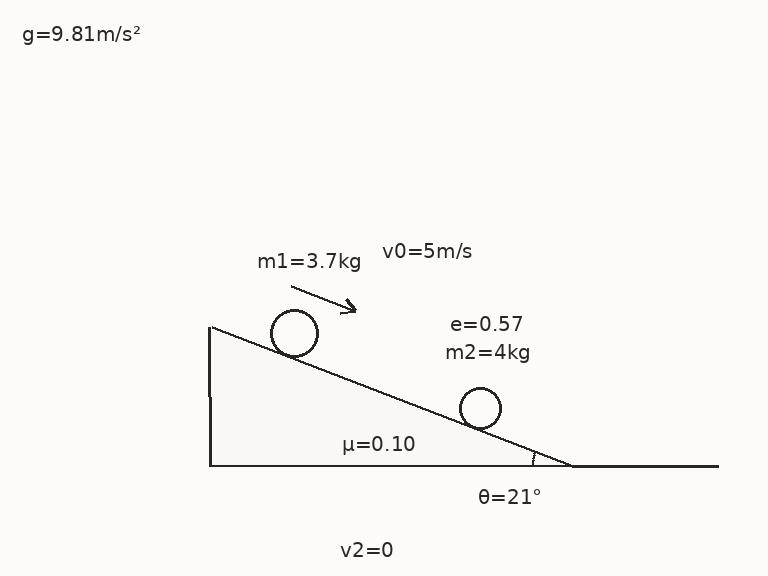ball: (268, 307, 320, 359), (457, 385, 503, 431)
ramp: (209, 325, 575, 468)
